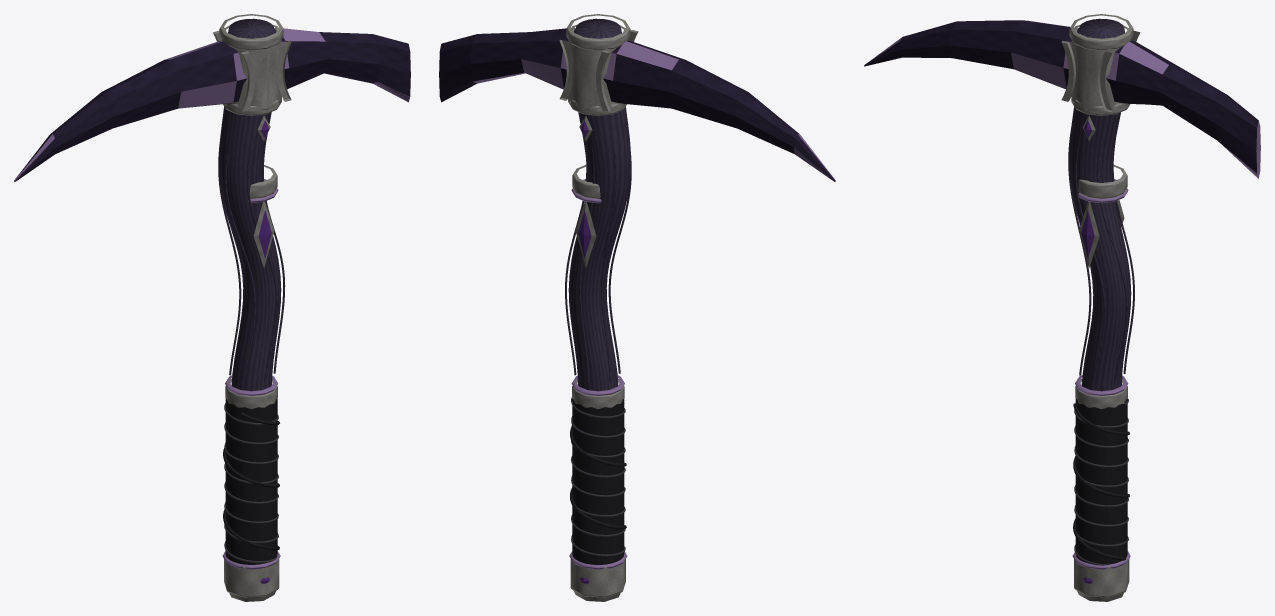
Rendered from nightglass_pickaxe.glb.
3 renders of one model, left to right at view 1: azimuth 30°, elevation 25°; view 2: azimuth 150°, elevation 25°; view 3: azimuth 330°, elevation 25°, orthographic.
Visible parts, largest first — view 1: nightglass_pickaxe-head-material, longitudinal-haft-grain, socket-and-ferrule-metal, creased-leather-wrap, honed-head-bevels, leather-overlap-edges; view 2: nightglass_pickaxe-head-material, longitudinal-haft-grain, socket-and-ferrule-metal, creased-leather-wrap, honed-head-bevels, leather-overlap-edges; view 3: nightglass_pickaxe-head-material, longitudinal-haft-grain, socket-and-ferrule-metal, creased-leather-wrap, honed-head-bevels, leather-overlap-edges.
Boxes of the visible parts, x1,y1,x2,y2 form: nightglass_pickaxe-head-material: (14,28,410,181); longitudinal-haft-grain: (218,18,285,391); socket-and-ferrule-metal: (213,14,291,601); creased-leather-wrap: (223,399,279,564); honed-head-bevels: (14,28,409,569); leather-overlap-edges: (224,403,278,563); nightglass_pickaxe-head-material: (439,28,834,181); longitudinal-haft-grain: (565,18,631,391); socket-and-ferrule-metal: (559,14,638,601); creased-leather-wrap: (570,399,626,564); honed-head-bevels: (473,41,835,569); leather-overlap-edges: (571,397,625,556); nightglass_pickaxe-head-material: (864,20,1258,172); longitudinal-haft-grain: (1068,18,1134,391); socket-and-ferrule-metal: (1061,14,1140,601); creased-leather-wrap: (1073,399,1129,564); honed-head-bevels: (865,20,1260,569); leather-overlap-edges: (1074,398,1128,565).
Bounding box in the file's own units: 0.715 × 0.98 × 0.101.
Materials: 7 (4 with a texture image).
